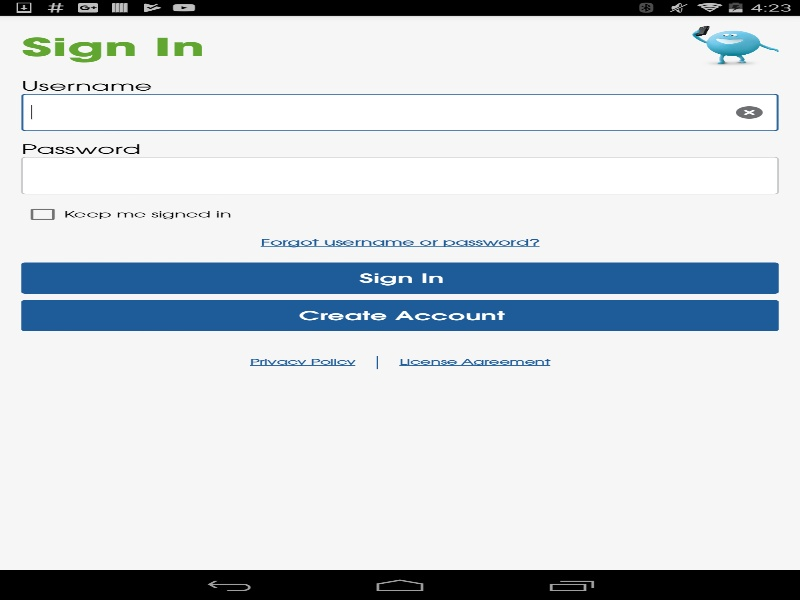Button: (21, 262, 778, 293), (21, 300, 778, 331), (21, 227, 778, 257), (378, 346, 550, 376), (249, 346, 376, 376)
Input: (21, 156, 778, 194), (21, 93, 729, 131)
